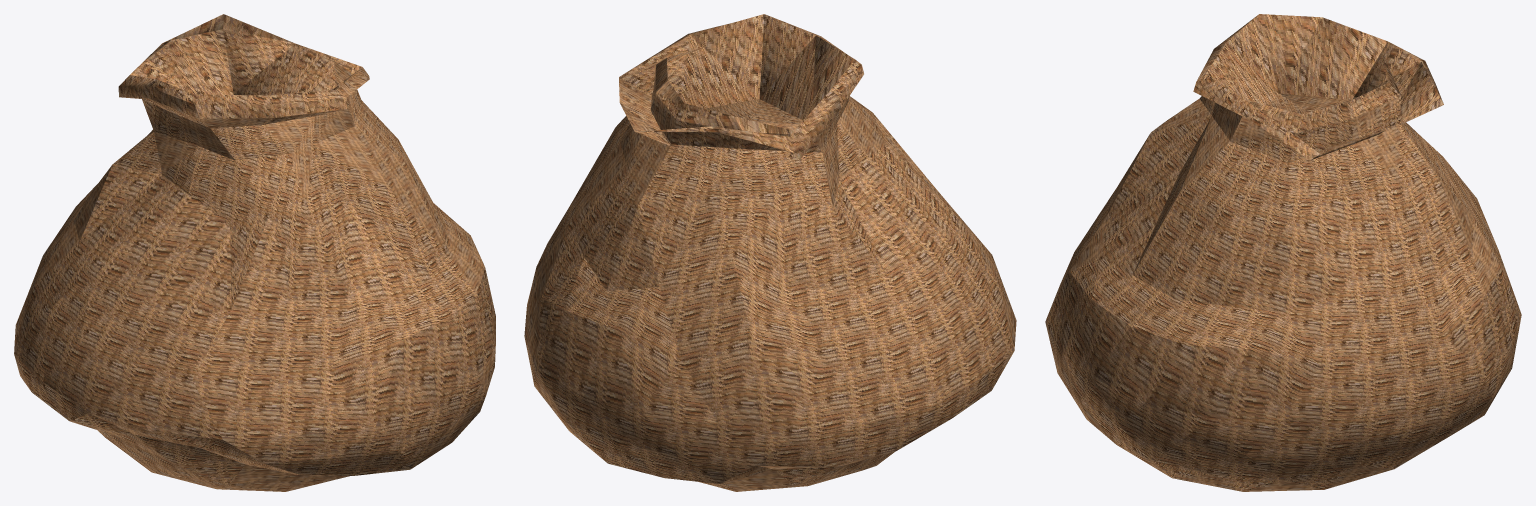
The model's file is basket.glb.
3 views of the same model, side by side, from view 1: azimuth 30°, elevation 25°; view 2: azimuth 150°, elevation 25°; view 3: azimuth 270°, elevation 25° (orthographic). The views are drawn at different scales.
Visible parts, largest first — view 1: mug.ms3d.mo; view 2: mug.ms3d.mo; view 3: mug.ms3d.mo.
Part boxes in pixels (bbox=[...]): mug.ms3d.mo: bbox=[14, 14, 495, 491]; mug.ms3d.mo: bbox=[524, 14, 1016, 491]; mug.ms3d.mo: bbox=[1045, 14, 1521, 491].
Bounding box in the file's own units: 23.68 × 21.67 × 23.54.
Materials: 1 (1 with a texture image).
